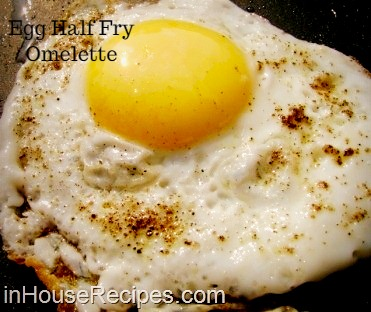fried egg: (35, 12, 327, 270)
